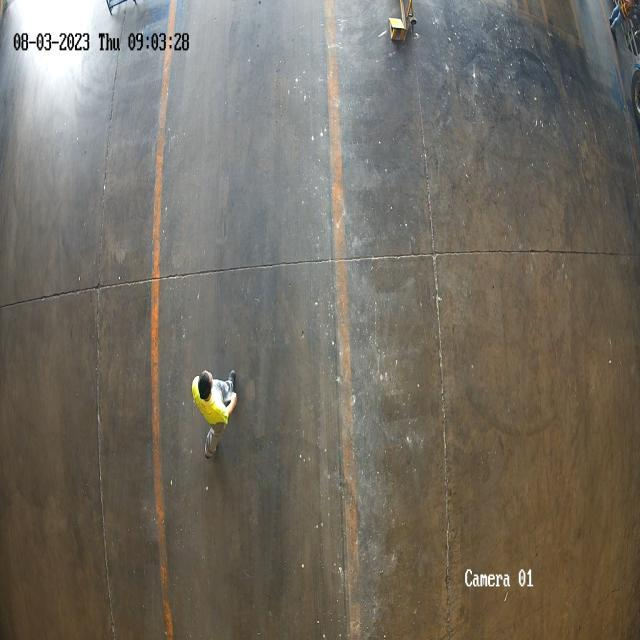person: (188, 356, 242, 469)
